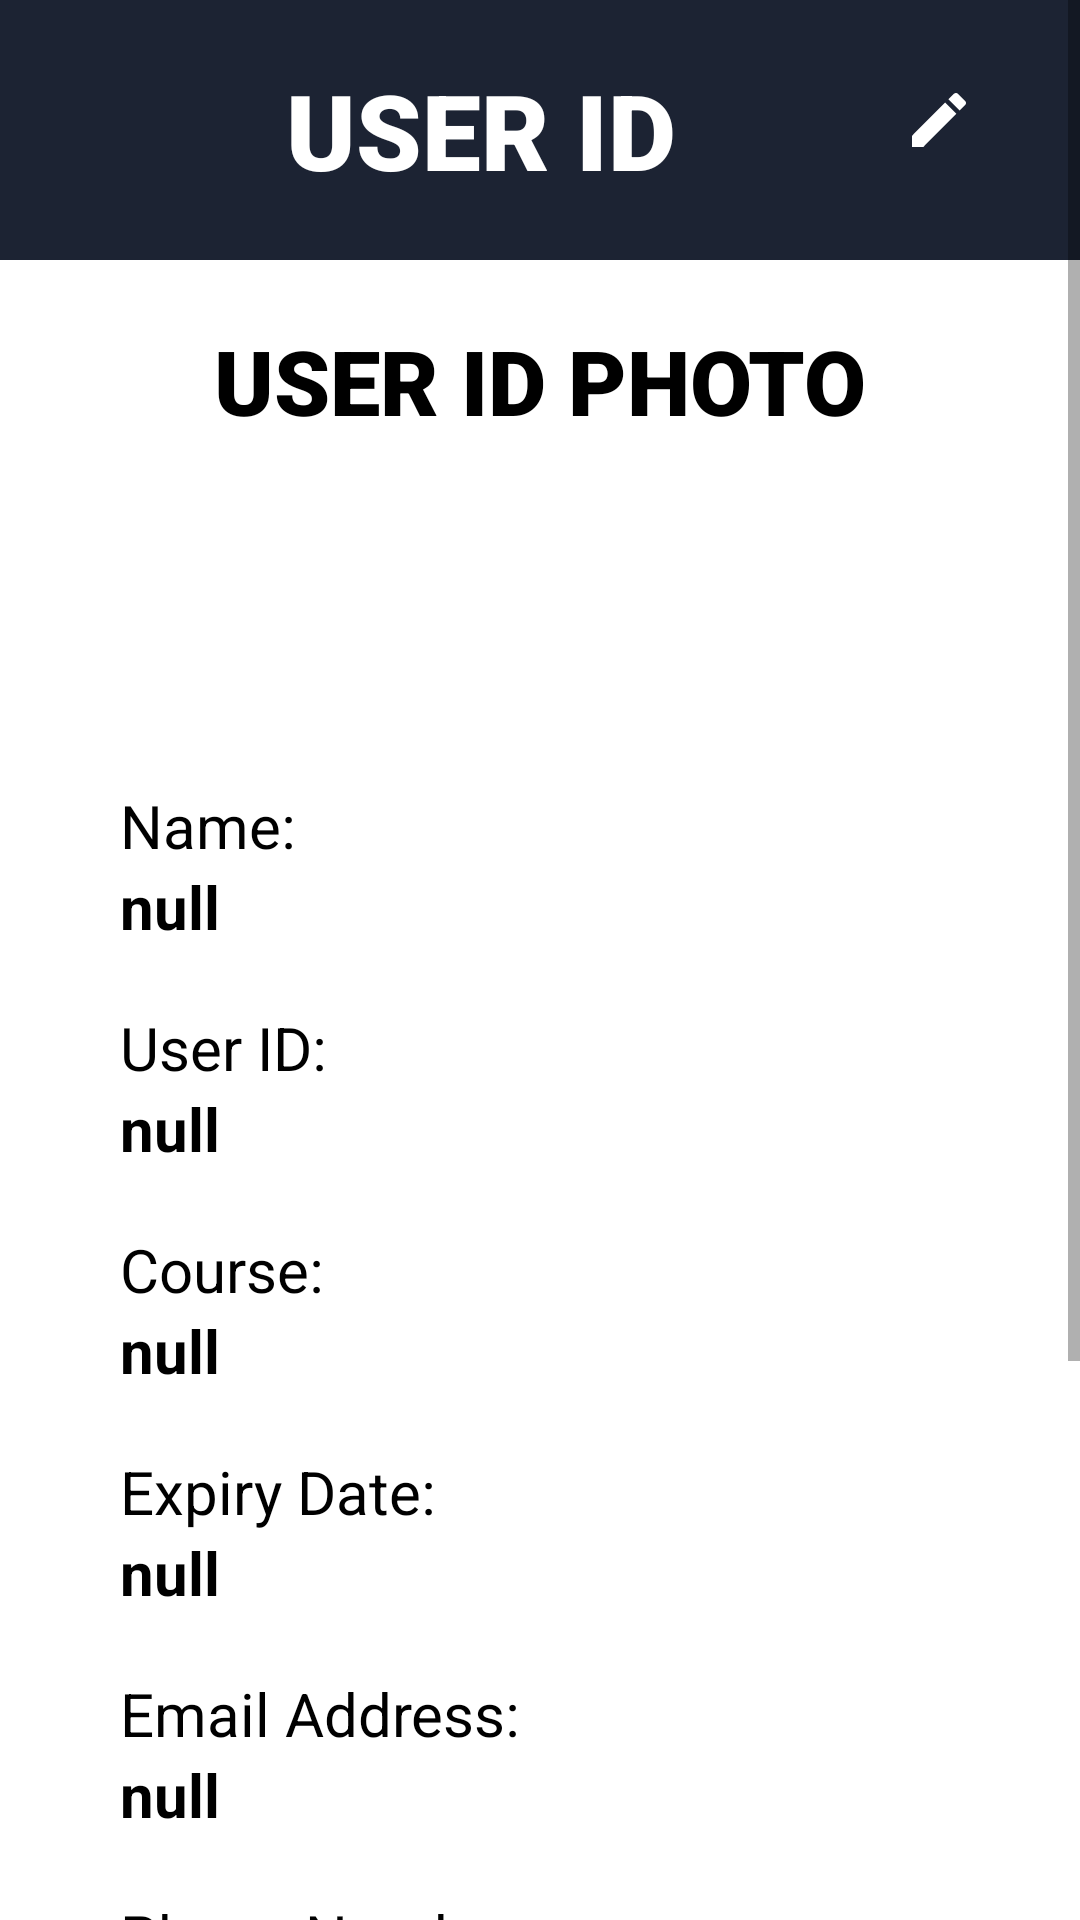

Screen size 1080px×1920px. Icon name, then its box in pixels as (x1, y1, x2, y2):
edit: (912, 93, 966, 147)
